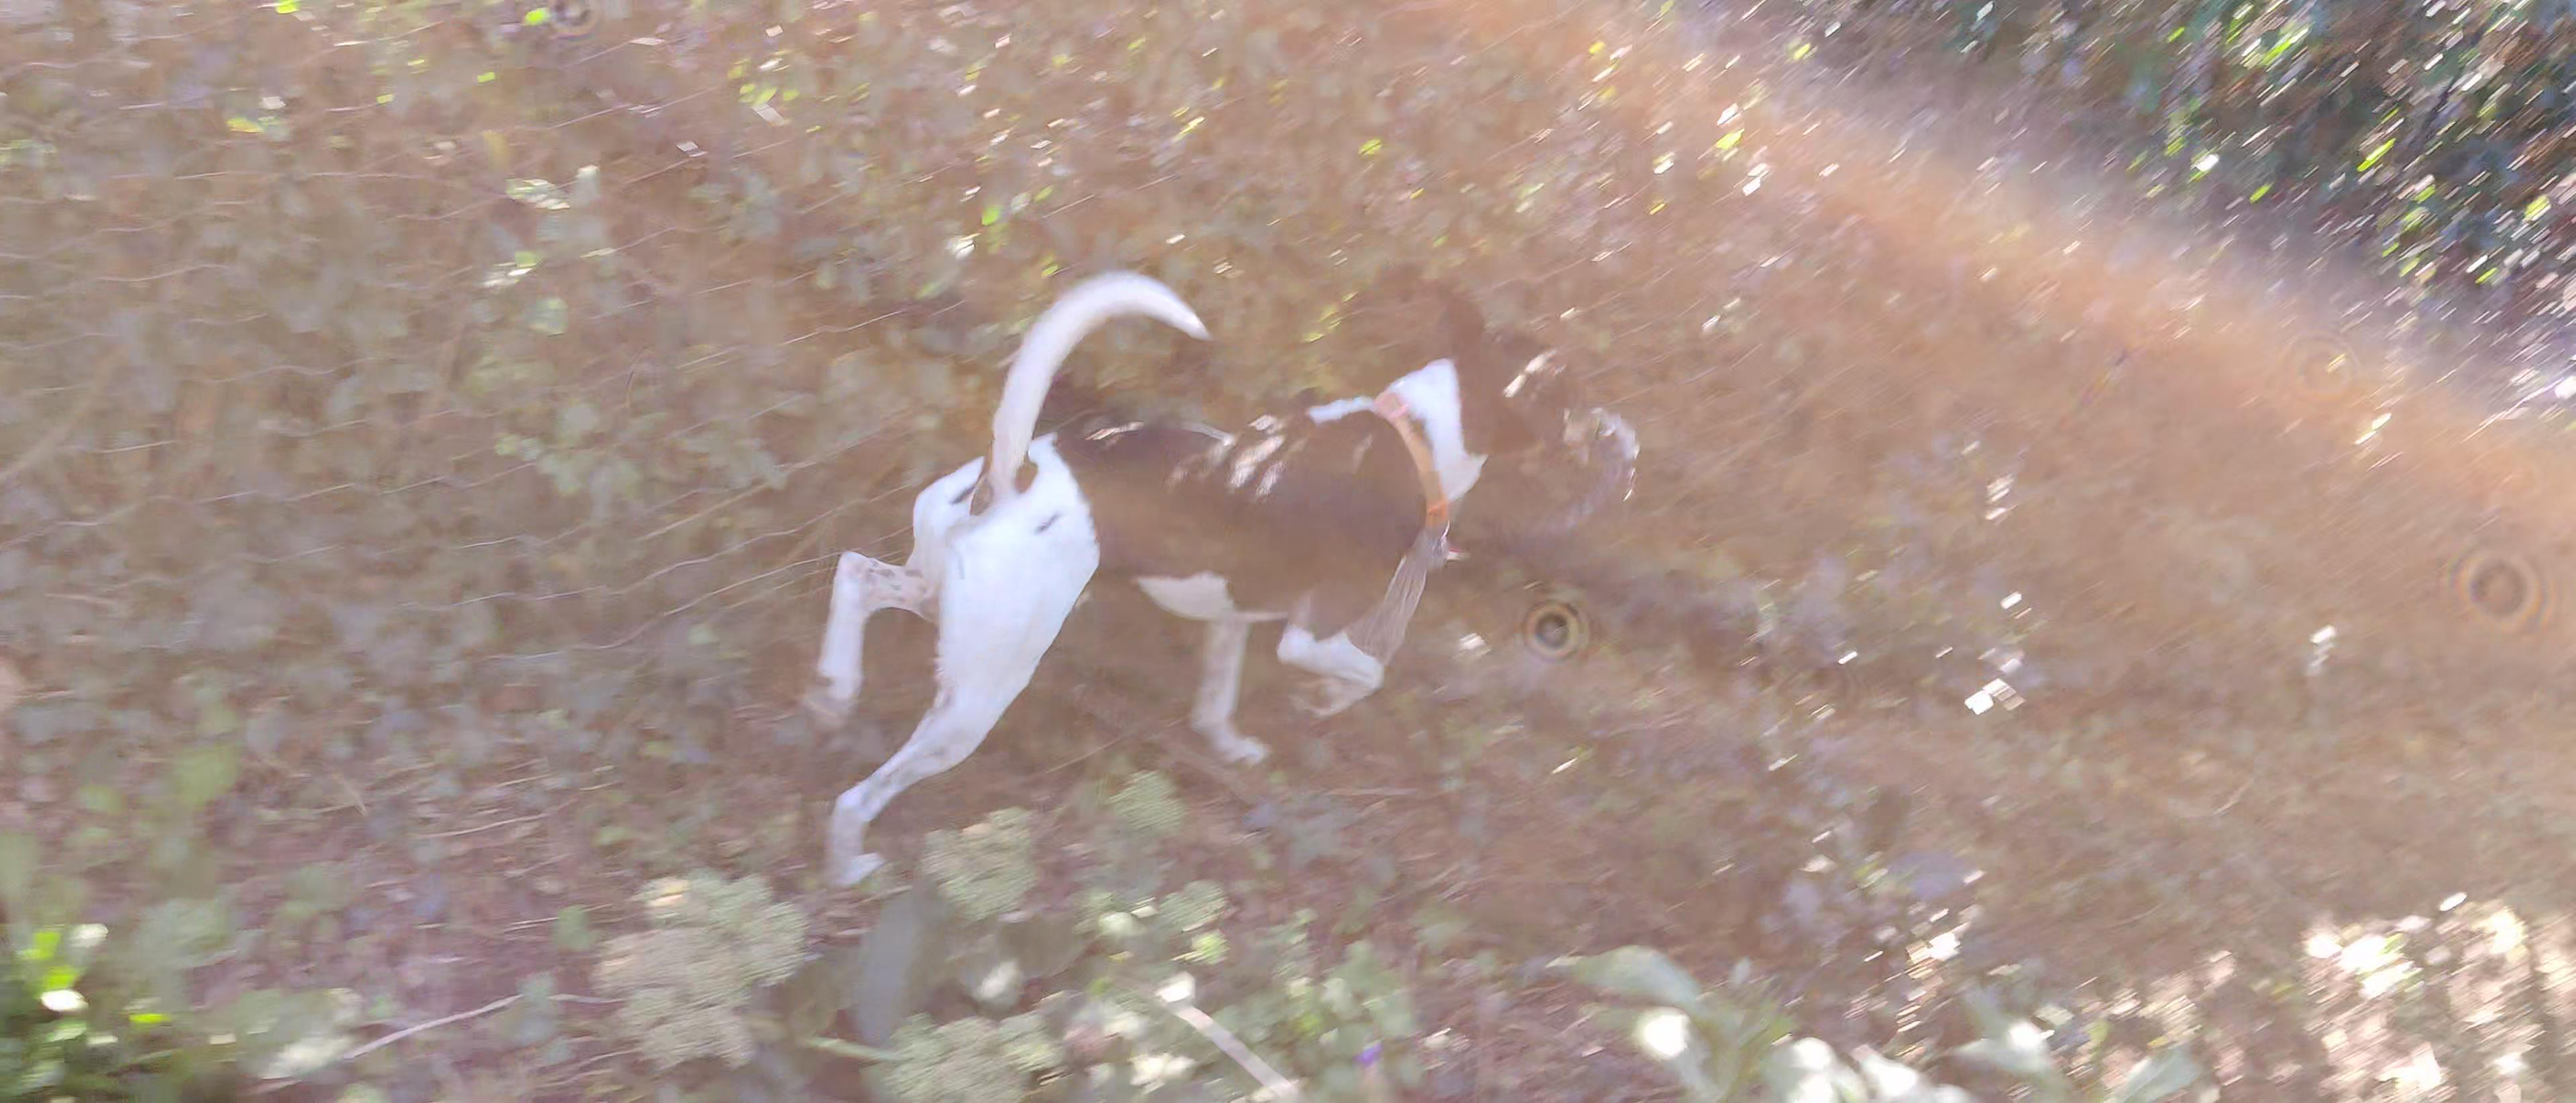Dog: (797, 268, 1605, 899)
